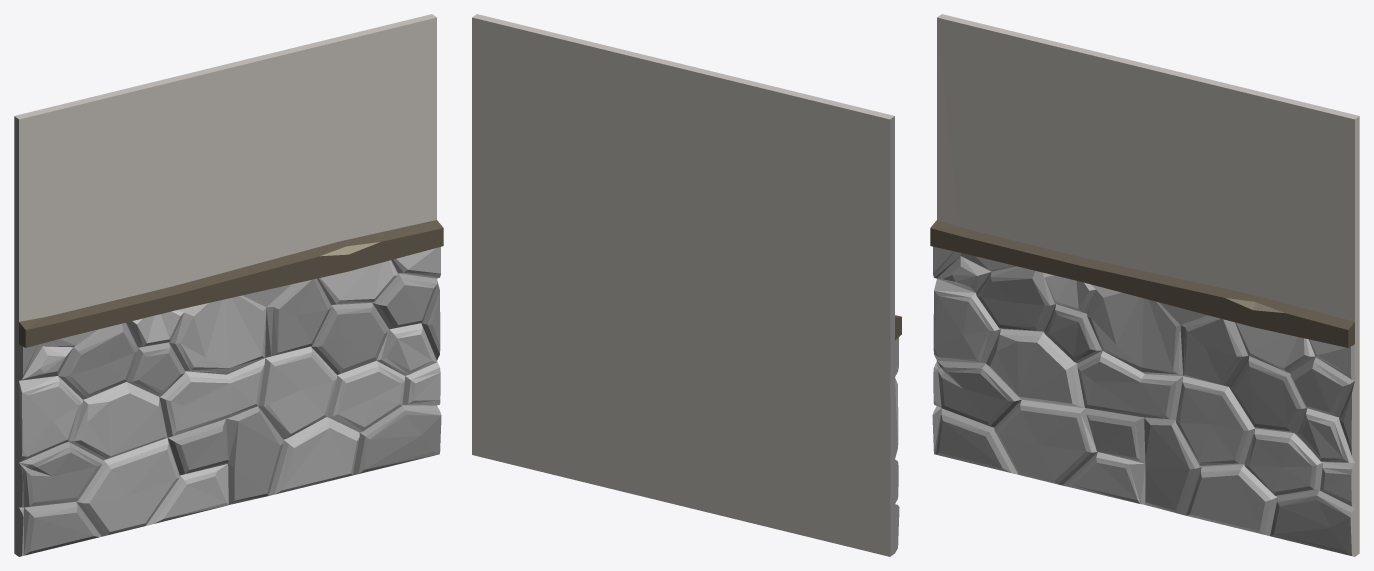
The model's file is _WALL_01_1.fbx.
The picture shows the model from 3 angles, left to right: view 1: azimuth 30°, elevation 25°; view 2: azimuth 150°, elevation 25°; view 3: azimuth 330°, elevation 25°; orthographic projection.
Parts seen in each view (by area): view 1: WALL_01_1; view 2: WALL_01_1; view 3: WALL_01_1.
Boxes of the visible parts, left/top/right/bottom form: WALL_01_1: left=14, top=14, right=443, bottom=556; WALL_01_1: left=472, top=14, right=901, bottom=556; WALL_01_1: left=930, top=14, right=1359, bottom=556.
Bounding box in the file's own units: 300 × 300 × 14.45.
